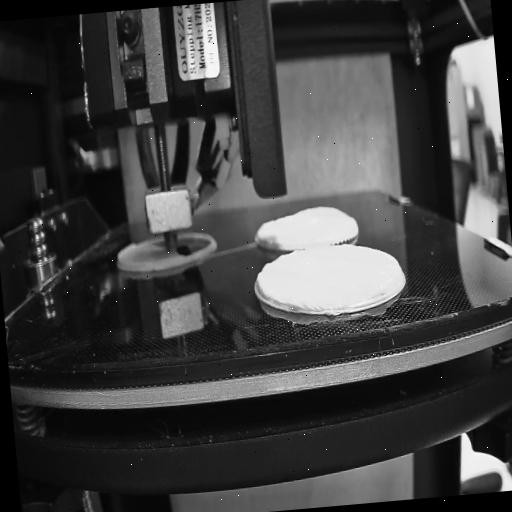over_extrusion: (252, 268, 276, 302)
